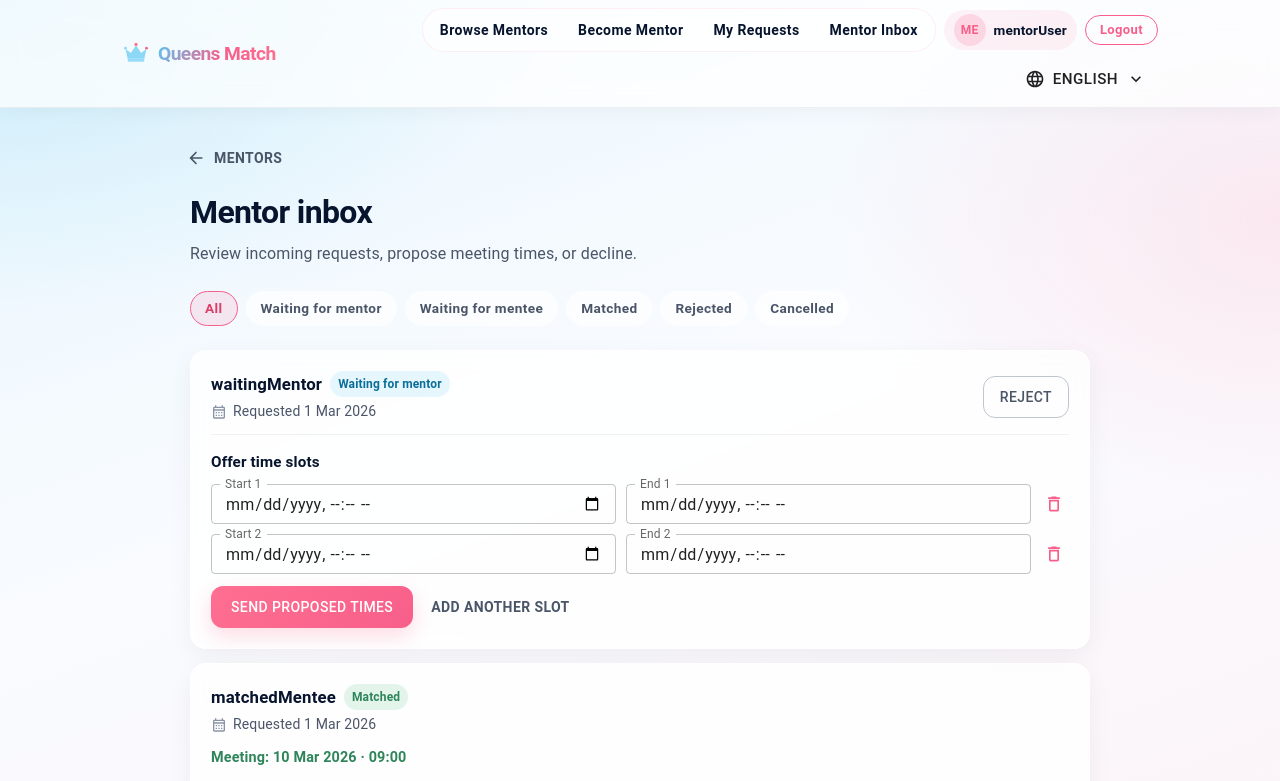
Test: MentorDashboardPage › filters inbox by status
Expected: the heading "waitingMentor" is shown, [211, 372, 322, 397]
Expected: the heading "matchedMentee" is shown, [211, 685, 336, 710]
Click the button "Matched" at (609, 309), box [566, 291, 652, 326]
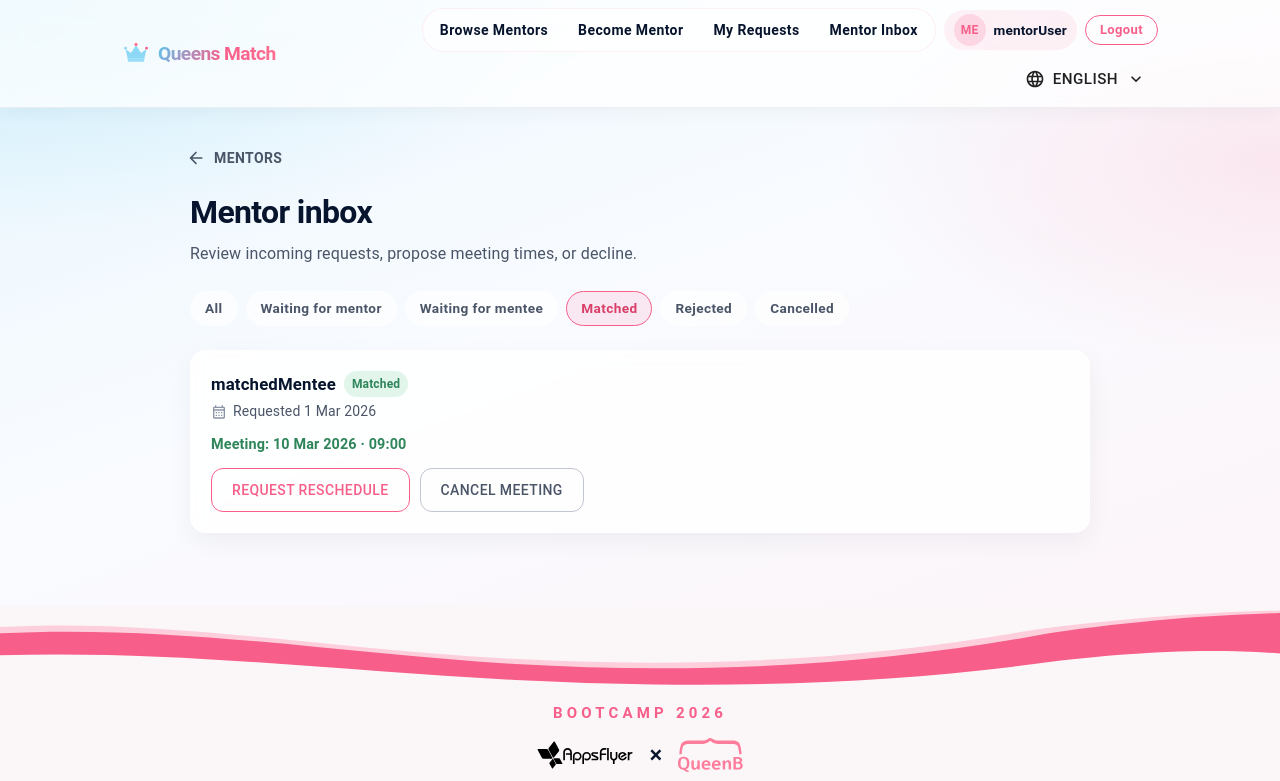
Expected: the heading "matchedMentee" is shown, [211, 372, 336, 397]
Expected: the heading "waitingMentor" is gone
